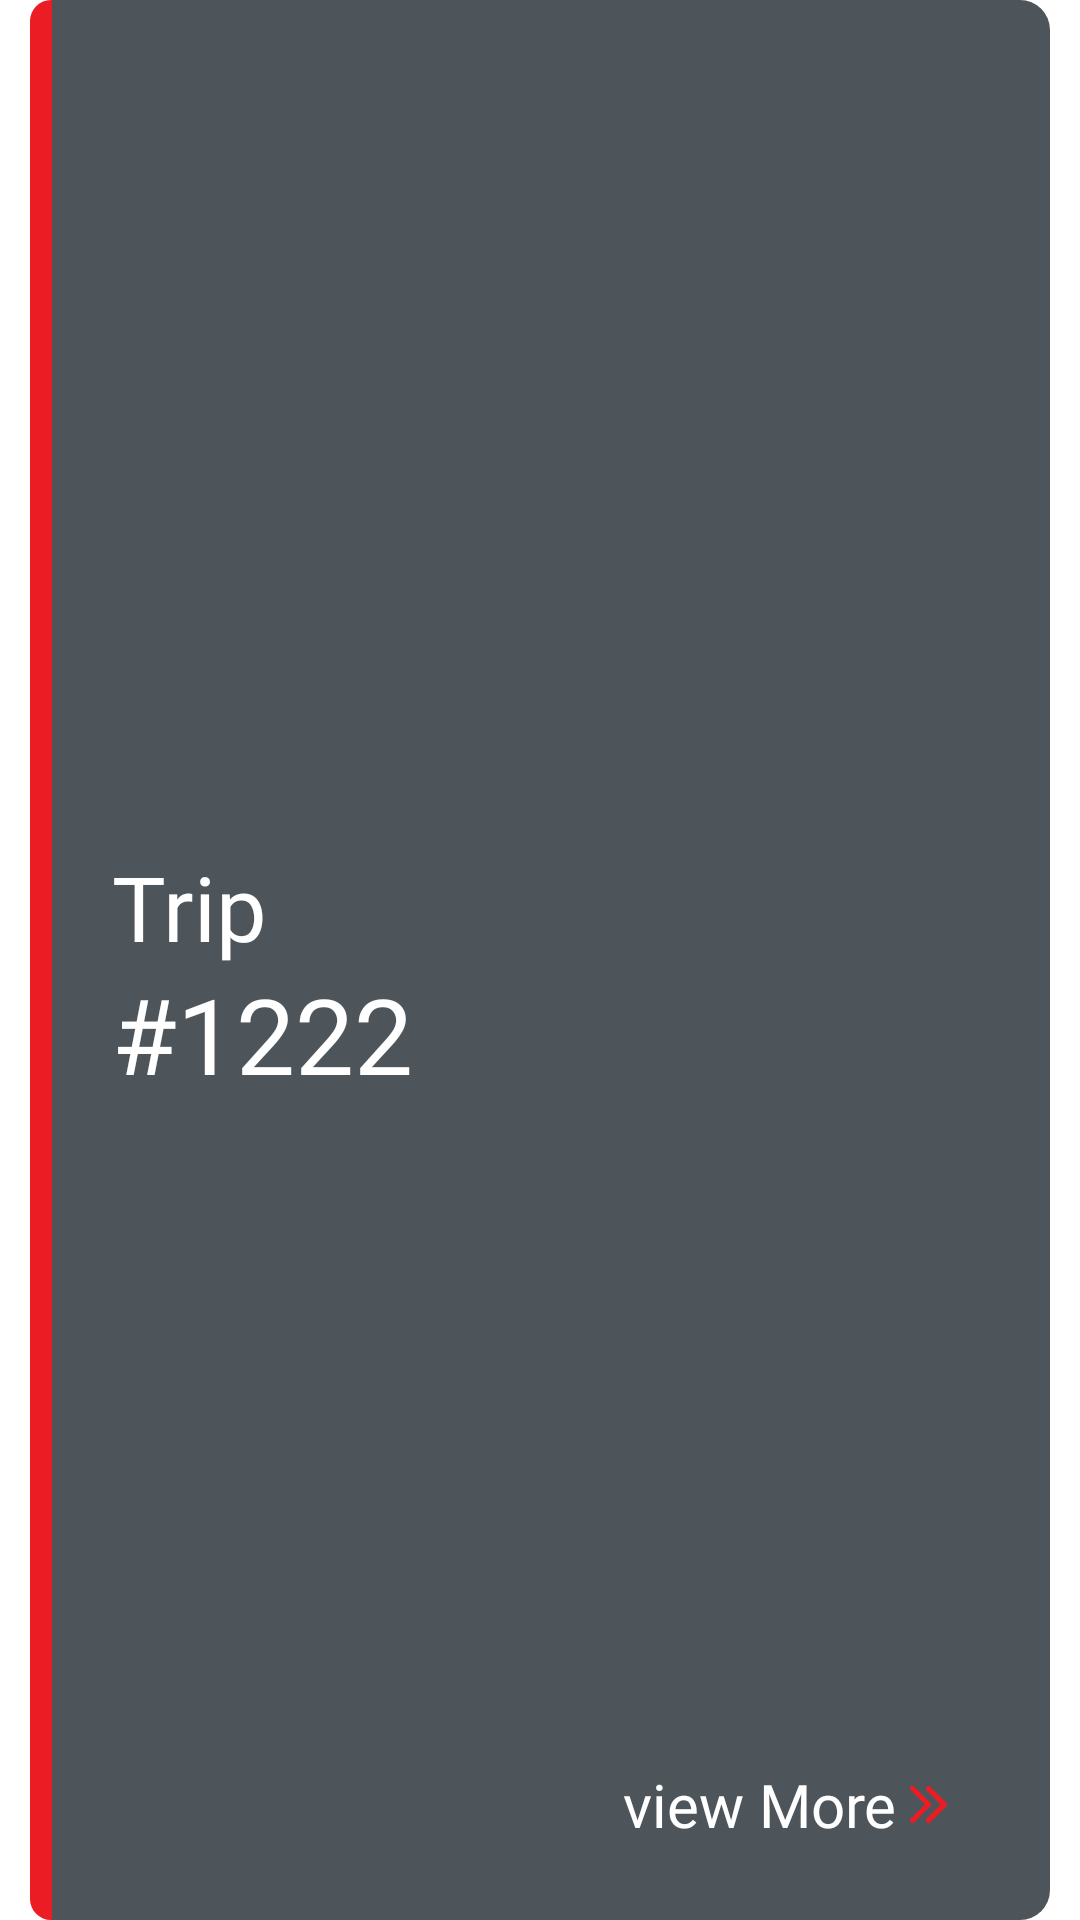

Screen size 1080*1920. Icon name, then its center in pixels as point (x, y):
arrow right: point (928, 1804)
